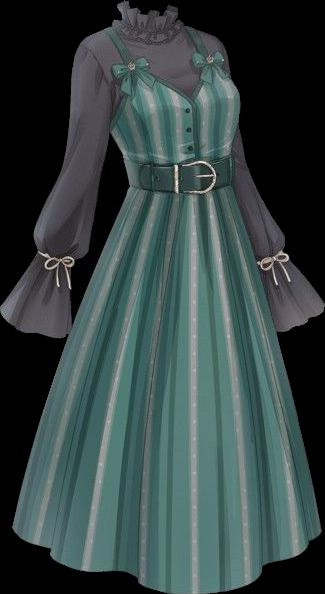Bodice: (80, 1, 239, 191)
Hemline: (8, 522, 322, 593)
Neckline: (110, 26, 232, 115), (120, 145, 234, 165), (118, 15, 181, 34), (117, 1, 177, 15)
Skirt: (12, 183, 320, 593)
Sleeve: (0, 42, 111, 337)
Sleeveline: (79, 42, 116, 141), (35, 248, 74, 267)
Waistline: (125, 177, 234, 196)
